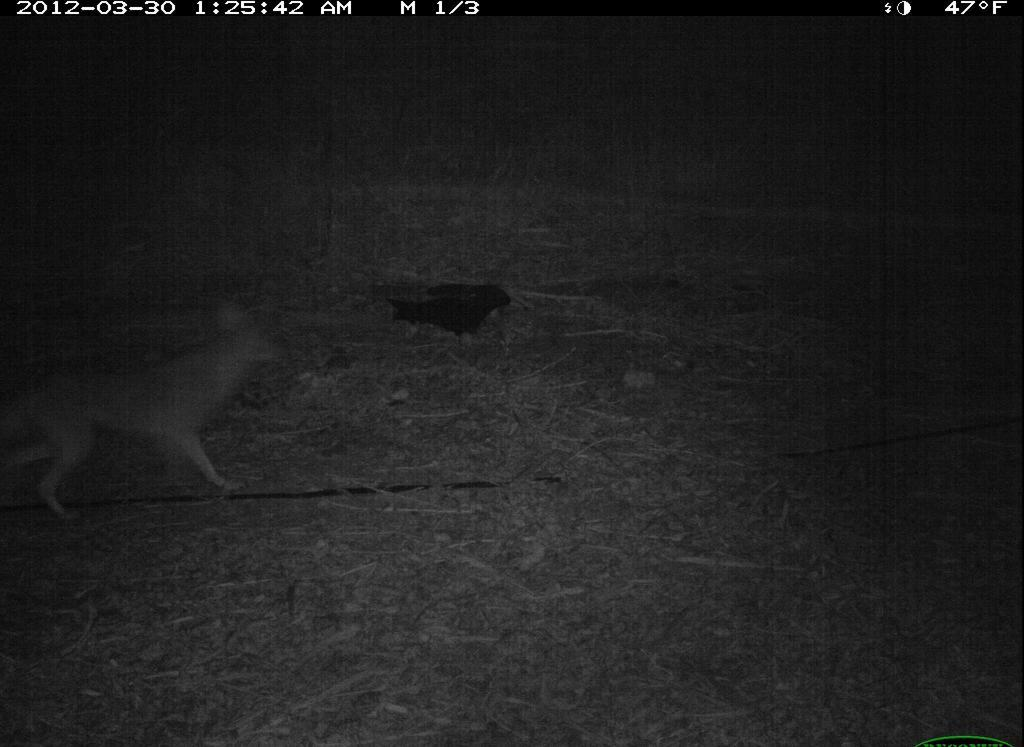coyote: (4, 262, 308, 534)
